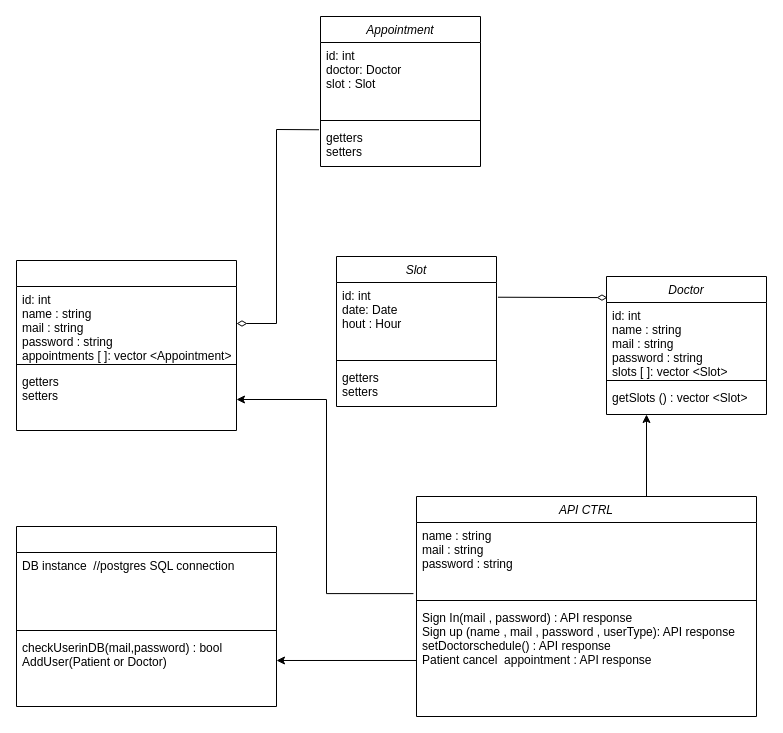
Some shapes in this 783 by 733 pixel diagram are drawn without their labels. Here are the shapes that lost their labels. From the top down, the box of each, then its label:
(16, 260, 236, 430): Patient
(16, 526, 276, 706): DB CTRL
